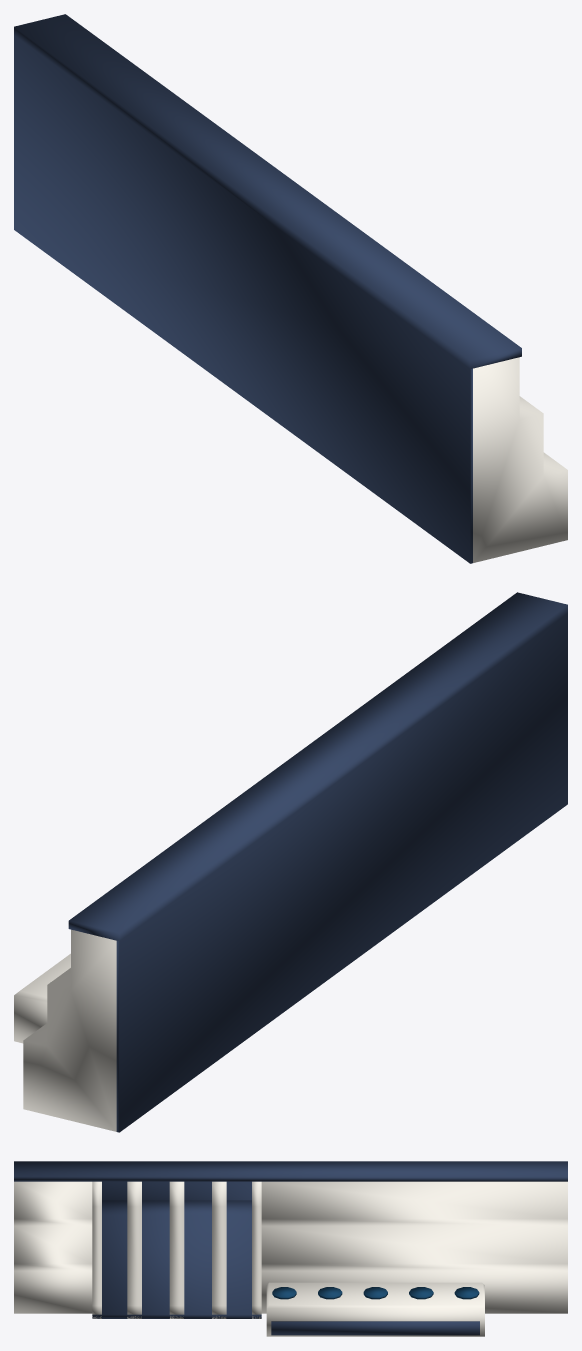
The model's file is hidreletrica.glb.
3 views of the same model, one above another, from view 1: azimuth 30°, elevation 25°; view 2: azimuth 150°, elevation 25°; view 3: azimuth 270°, elevation 25° (orthographic). The views are drawn at different scales.
Parts seen in each view (by area): view 1: hidreletrica; view 2: hidreletrica; view 3: hidreletrica.
Boxes of the visible parts, x1=… form: hidreletrica: x1=14, y1=14, x2=567, y2=563; hidreletrica: x1=14, y1=592, x2=567, y2=1132; hidreletrica: x1=14, y1=1161, x2=567, y2=1336.
Size of the model in its own units: 76.8 by 83.5 by 340.
